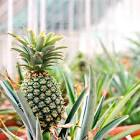Pineapple: (7, 30, 68, 127)
